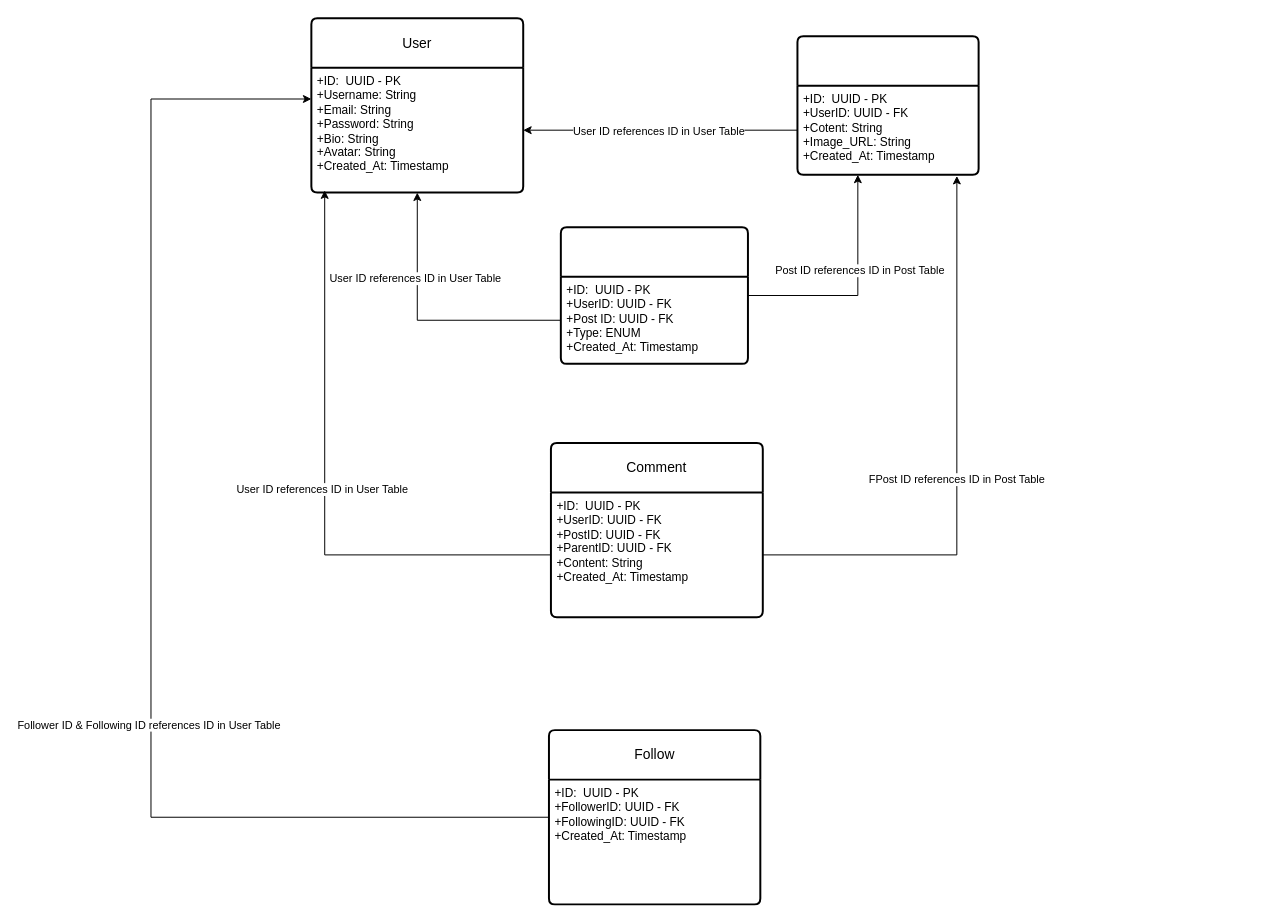
This 1278x922 diagram has some shape labels left out. Here are the shapes that lost their labels. From the top down, the box of each, then its label:
(796, 35, 979, 175): Post
(559, 226, 748, 364): Reactions
